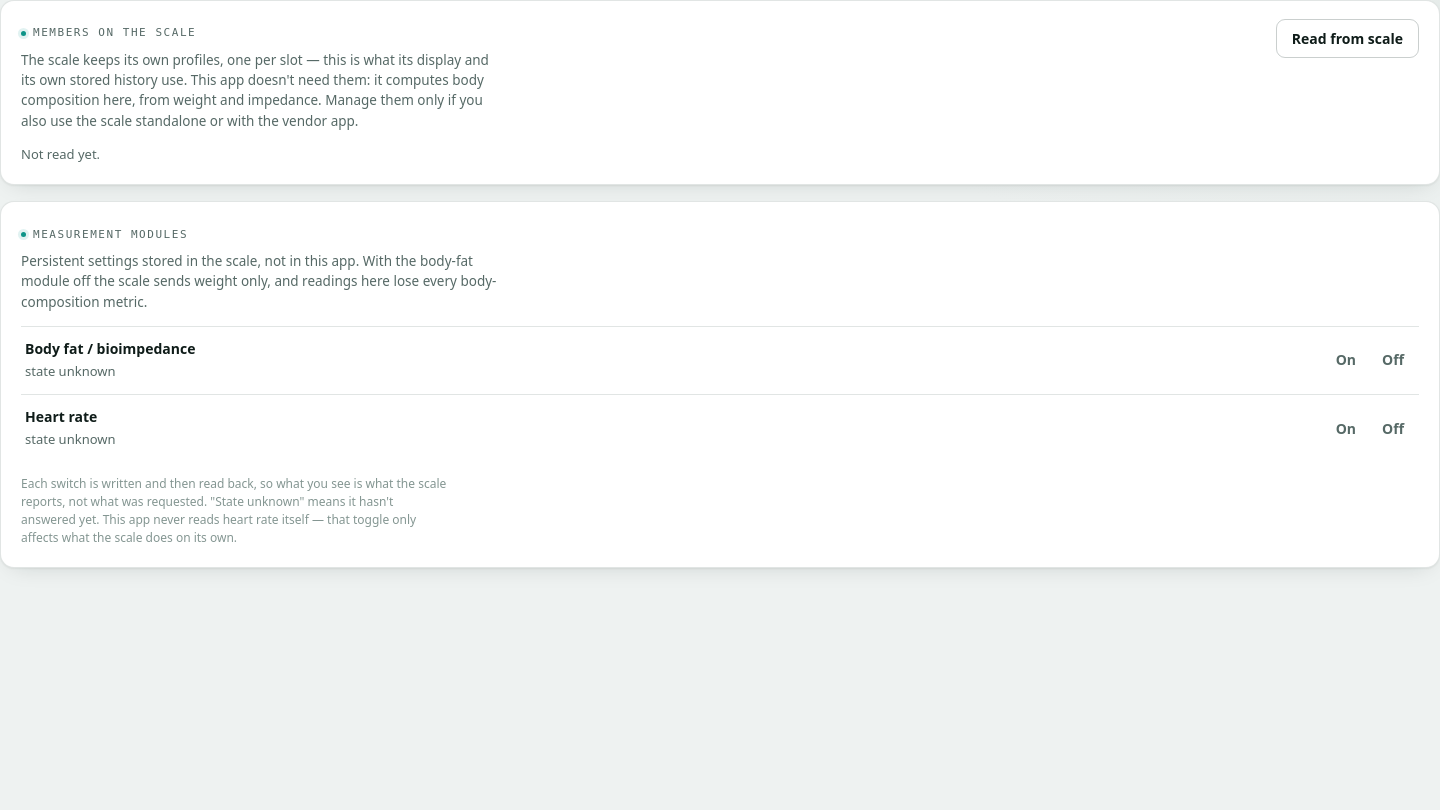
Test: DevicePanel › reports a scale that never answers instead of showing an empty list
Click the button "Read from scale".
click(1347, 38)  # box [1276,19,1419,58]
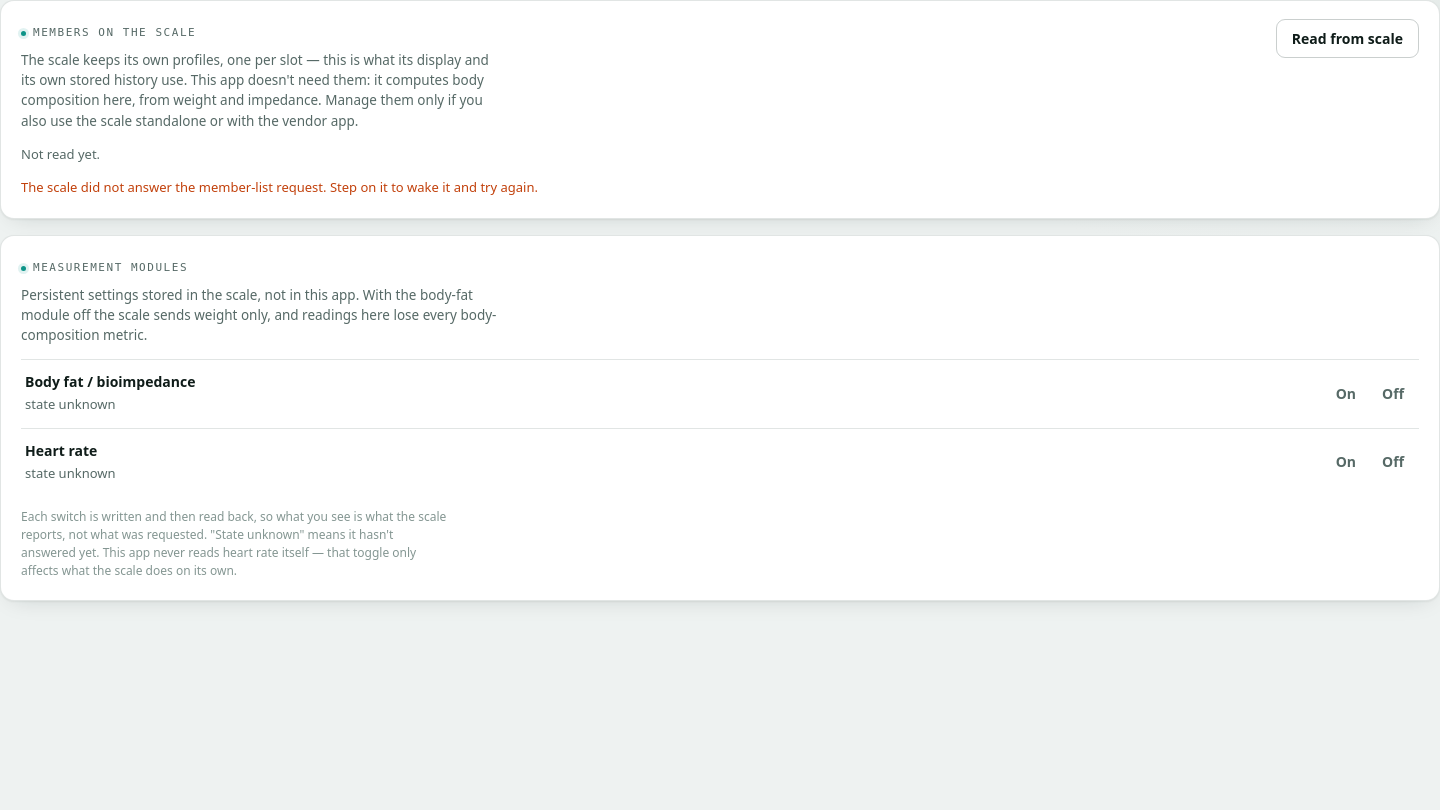
expect the text "did not answer" is shown: met, box [21,178,538,196]
